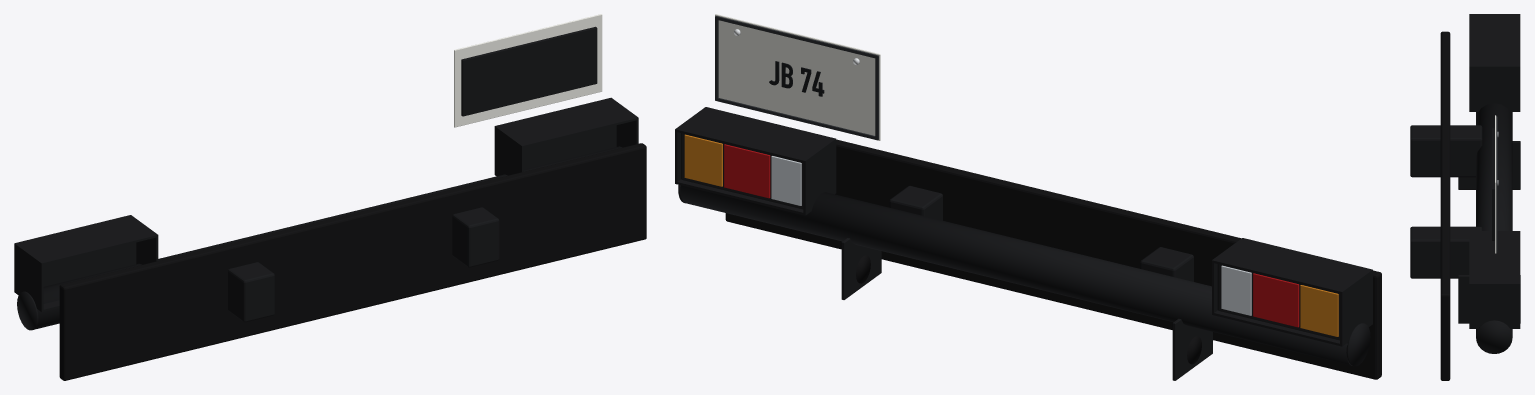
Rendered from rearBumper_wildgoose_crawler_rear.glb.
3 views of the same model, side by side, from view 1: azimuth 30°, elevation 25°; view 2: azimuth 150°, elevation 25°; view 3: azimuth 270°, elevation 25° (orthographic). The views are drawn at different scales.
Parts seen in each view (by area): view 1: valance.028, plateBracket, plate.035, lampBox1Wall0.002, lampBox-1Wall0.002, mount1.028, mount-1.028, lampBox1Back.002, lampBox-1Back.002, bar.007, lampBox-1Wall3.002, lampBox1Wall3.002 (+3 smaller); view 2: valance.028, bar.007, plate.035, lampBox-1Wall0.002, lampBox1Wall0.002, lampSeg-11.003, lampSeg11.003, lampBox1Wall3.002, lampSeg-10.003, lampSeg12.003, lampBox-1Wall3.002, bracket-1.008 (+13 smaller); view 3: bar.007, valance.028, mount-1.028, lampBox-1Wall0.002, mount1.028, lampBox1Wall0.002, lampBox-1Wall1.002, lampBox1Wall1.002, cap1.034, bracket-1.008, bracket1.009, plateBracket (+3 smaller).
Part boxes in pixels (x1=…): valance.028: x1=59, y1=143, x2=646, y2=380; plateBracket: x1=461, y1=26, x2=597, y2=116; plate.035: x1=454, y1=14, x2=602, y2=127; lampBox1Wall0.002: x1=494, y1=97, x2=638, y2=147; lampBox-1Wall0.002: x1=14, y1=215, x2=157, y2=264; mount1.028: x1=452, y1=207, x2=499, y2=267; mount-1.028: x1=228, y1=262, x2=274, y2=322; lampBox1Back.002: x1=501, y1=125, x2=616, y2=174; lampBox-1Back.002: x1=20, y1=242, x2=136, y2=286; bar.007: x1=34, y1=146, x2=622, y2=329; lampBox-1Wall3.002: x1=14, y1=244, x2=43, y2=311; lampBox1Wall3.002: x1=494, y1=127, x2=523, y2=176; valance.028: x1=725, y1=139, x2=1381, y2=379; bar.007: x1=680, y1=185, x2=1350, y2=365; plate.035: x1=715, y1=14, x2=880, y2=140; lampBox-1Wall0.002: x1=1212, y1=238, x2=1372, y2=294; lampBox1Wall0.002: x1=675, y1=107, x2=835, y2=162; lampSeg-11.003: x1=1253, y1=273, x2=1299, y2=327; lampSeg11.003: x1=724, y1=144, x2=770, y2=198; lampBox1Wall3.002: x1=803, y1=139, x2=836, y2=215; lampSeg-10.003: x1=1300, y1=285, x2=1338, y2=336; lampSeg12.003: x1=684, y1=134, x2=722, y2=186; lampBox-1Wall3.002: x1=1340, y1=272, x2=1372, y2=346; bracket-1.008: x1=1172, y1=318, x2=1212, y2=380; bar.007: x1=1476, y1=103, x2=1512, y2=335; valance.028: x1=1440, y1=31, x2=1450, y2=380; mount-1.028: x1=1410, y1=125, x2=1482, y2=177; lampBox-1Wall0.002: x1=1469, y1=14, x2=1520, y2=66; mount1.028: x1=1410, y1=226, x2=1482, y2=278; lampBox1Wall0.002: x1=1469, y1=231, x2=1520, y2=283; lampBox-1Wall1.002: x1=1469, y1=66, x2=1520, y2=111; lampBox1Wall1.002: x1=1469, y1=284, x2=1520, y2=328; cap1.034: x1=1476, y1=320, x2=1512, y2=353; bracket-1.008: x1=1458, y1=141, x2=1520, y2=189; bracket1.009: x1=1458, y1=275, x2=1520, y2=323; plateBracket: x1=1492, y1=128, x2=1494, y2=240.
Size of the model in its own units: 1.34 by 0.4575 by 0.23.
